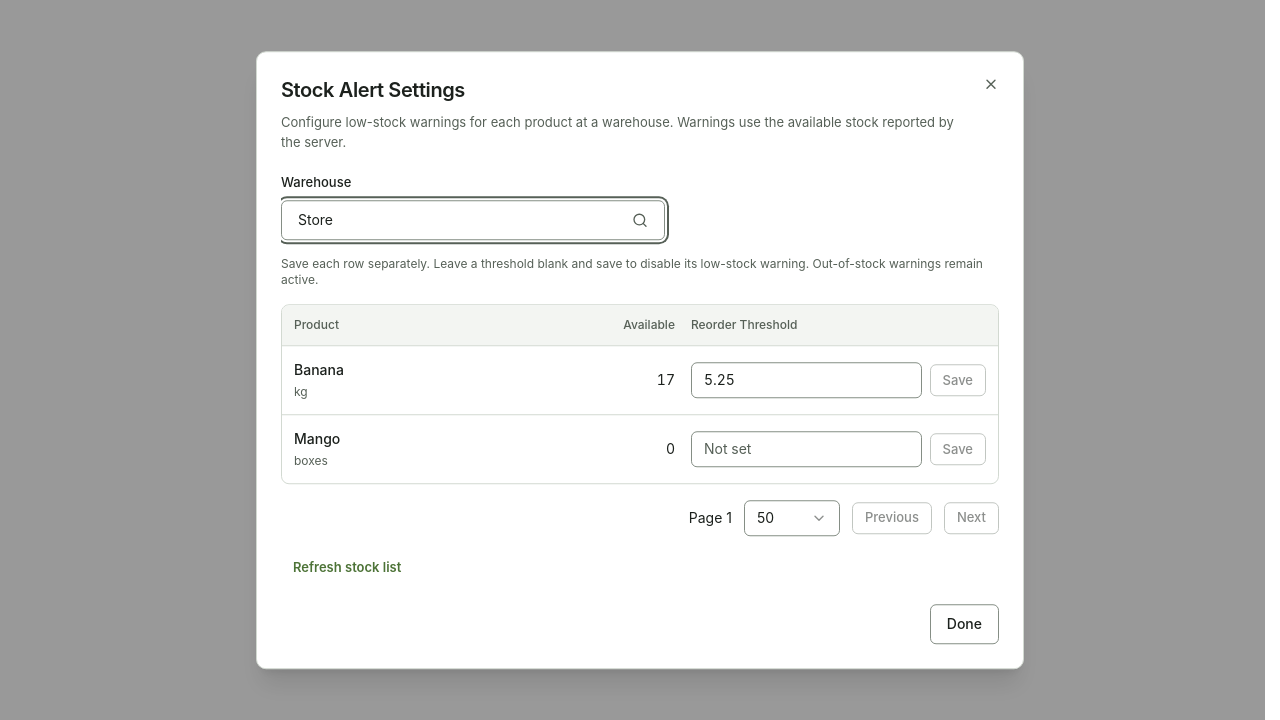
Test: rejects invalid threshold -1 without a request or losing input
Replace the text in the field named "Reorder threshold for Banana" with "-1": (806, 380) x1=691 y1=362 x2=922 y2=398
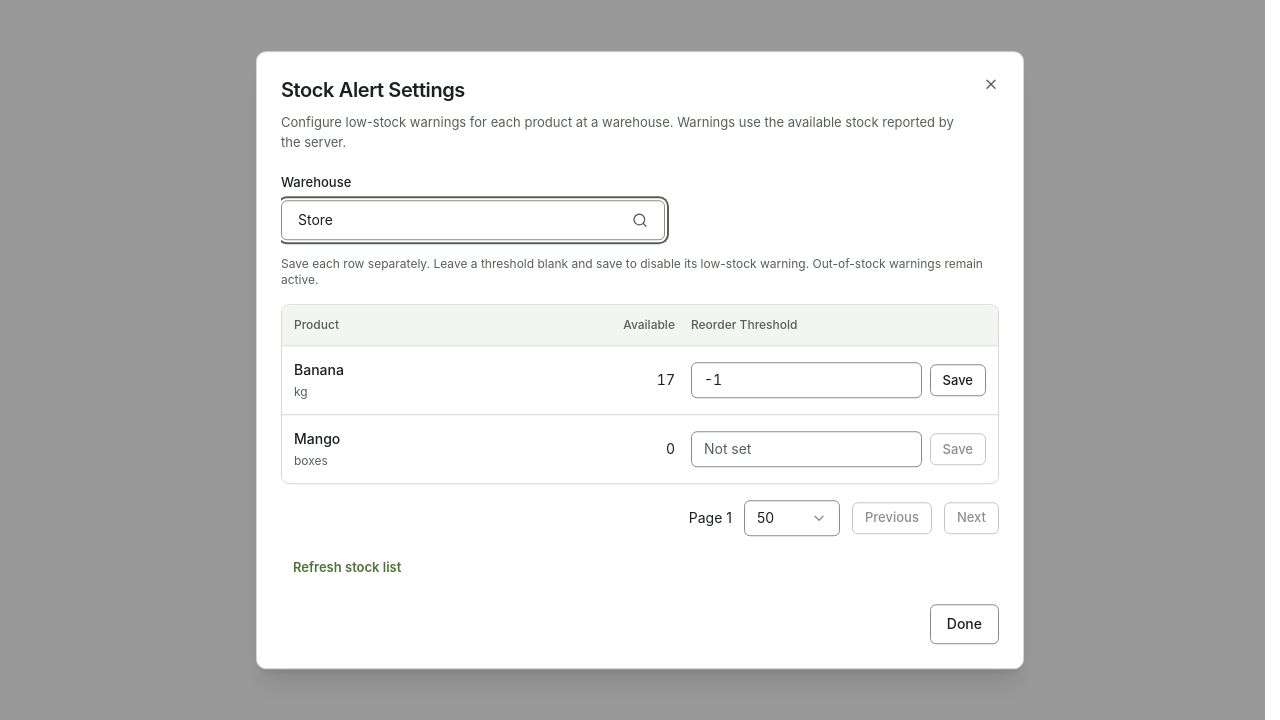
Submit the form "Save" in the row of "Banana", box x1=691 y1=362 x2=986 y2=398
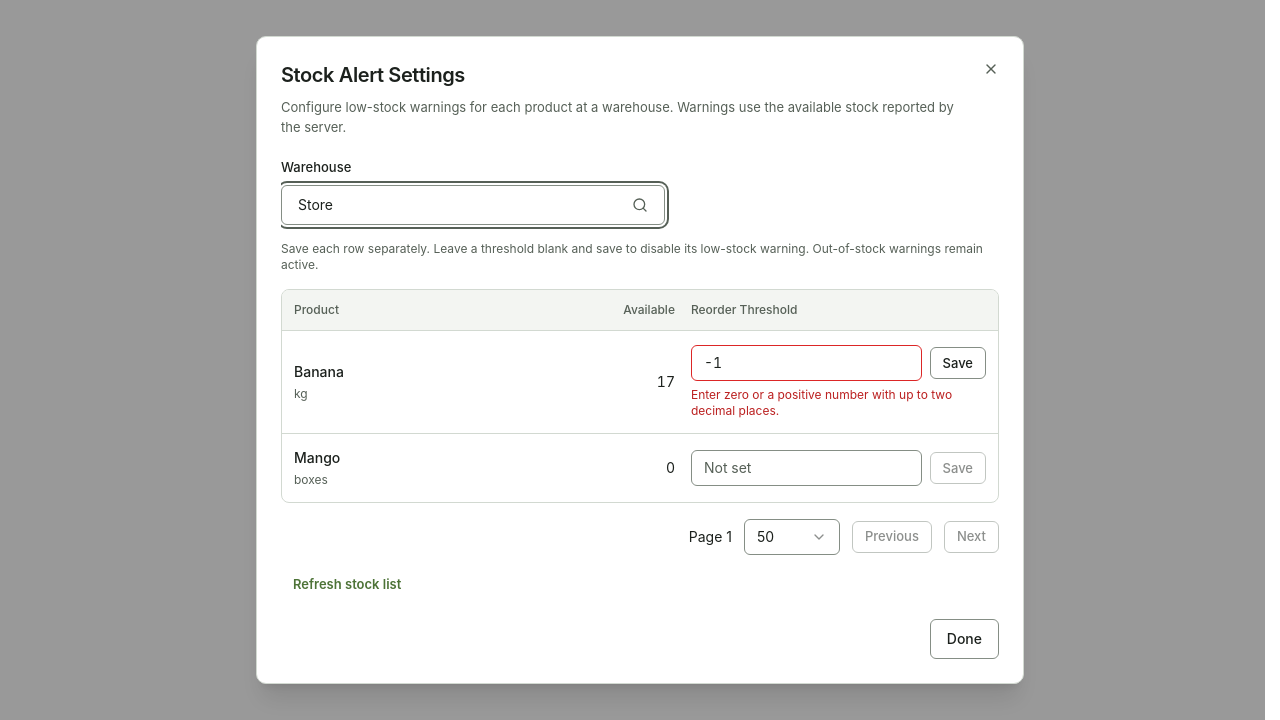
Expected: the message "Enter zero or a positive number with up to two decimal places." is shown, x1=691 y1=386 x2=986 y2=418
